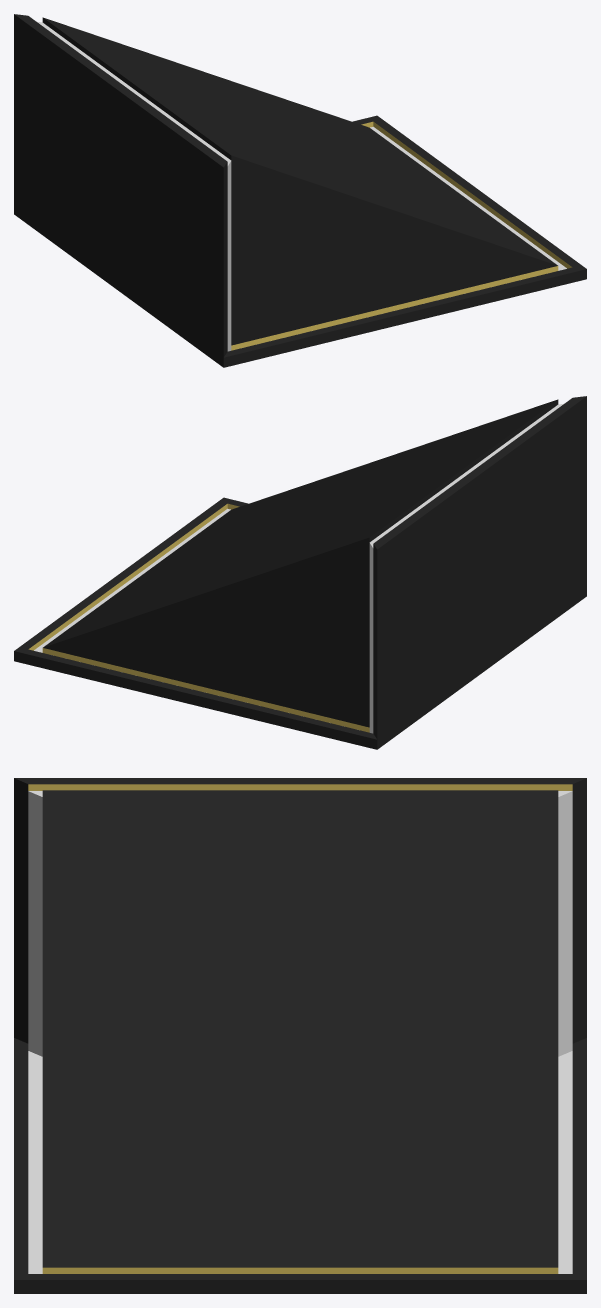
The model's file is FloorPaneledWithBottomRamp.fbx.
The picture shows the model from 3 angles, top to bottom: view 1: azimuth 30°, elevation 25°; view 2: azimuth 150°, elevation 25°; view 3: azimuth 270°, elevation 25°; orthographic projection. The views are drawn at different scales.
Visible parts, largest first — view 1: Cube.001, Cube.002; view 2: Cube.001, Cube.002; view 3: Cube.001, Cube.002.
Part boxes in pixels (x1,y1,x2,y2): Cube.001: [14, 14, 586, 362]; Cube.002: [14, 126, 586, 367]; Cube.001: [14, 396, 586, 744]; Cube.002: [14, 585, 586, 749]; Cube.001: [14, 778, 586, 1286]; Cube.002: [14, 1051, 586, 1293].
Size of the model in its own units: 400 by 211 by 400.
